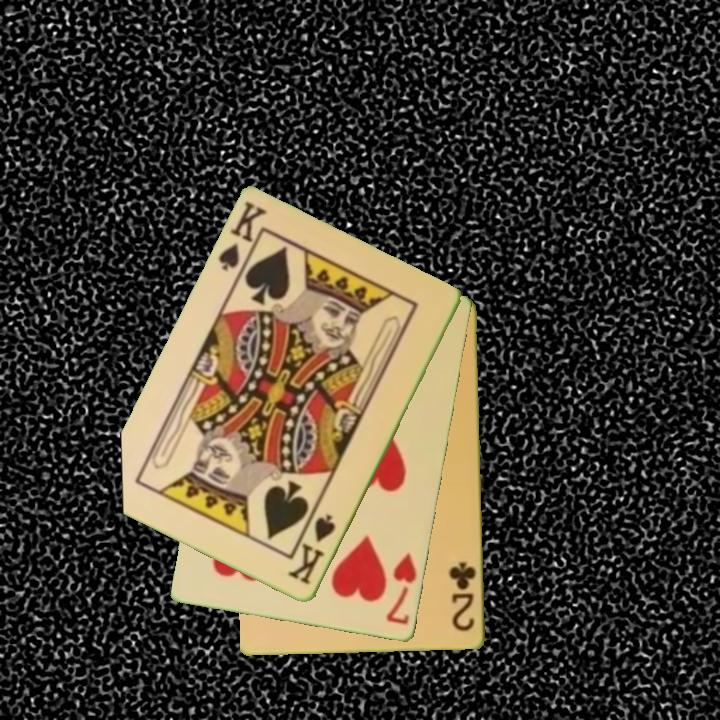2c: (447, 559, 480, 635)
7h: (382, 550, 420, 628)
Ks: (215, 198, 270, 283), (284, 511, 339, 589)
